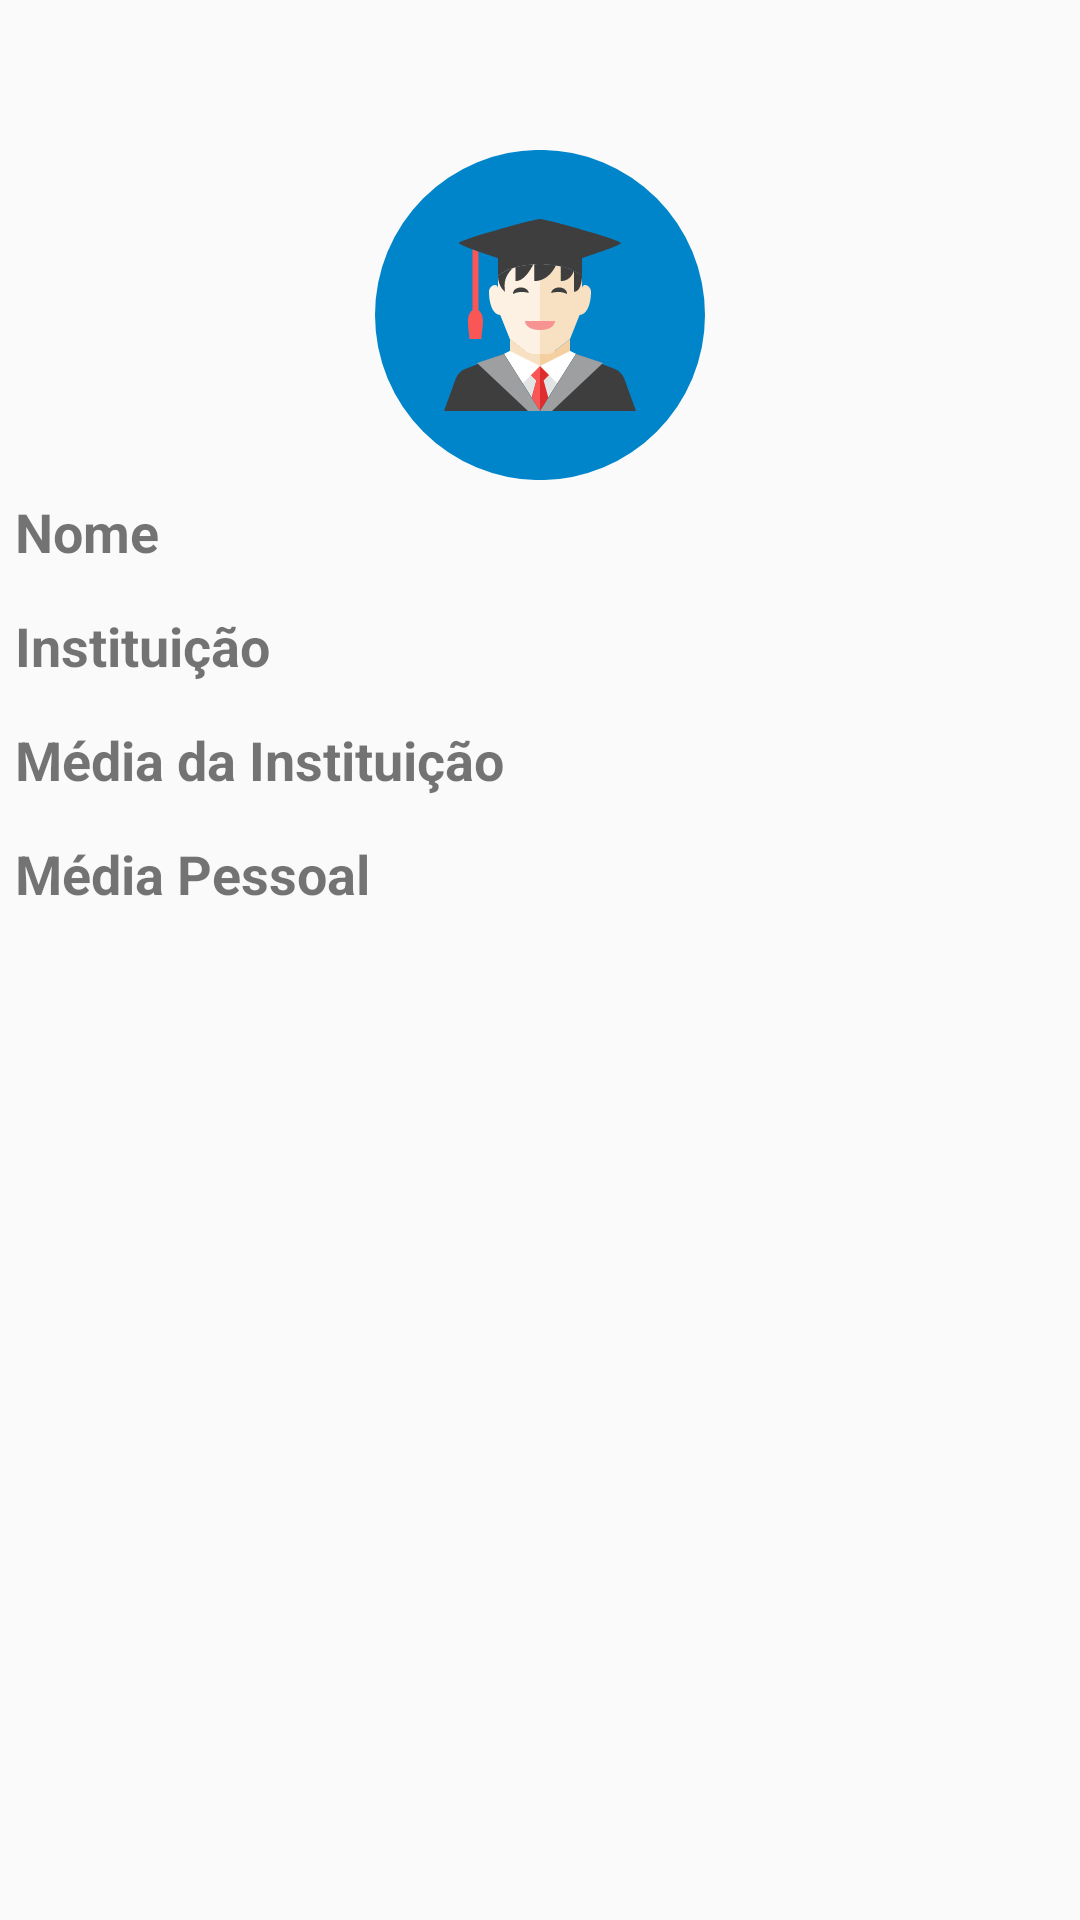

Named icons in this screenshot (1080w x 1920h) and their bounding boxes, rect(x1, y1, x2, y2):
iconfinder student: rect(375, 150, 705, 480)
